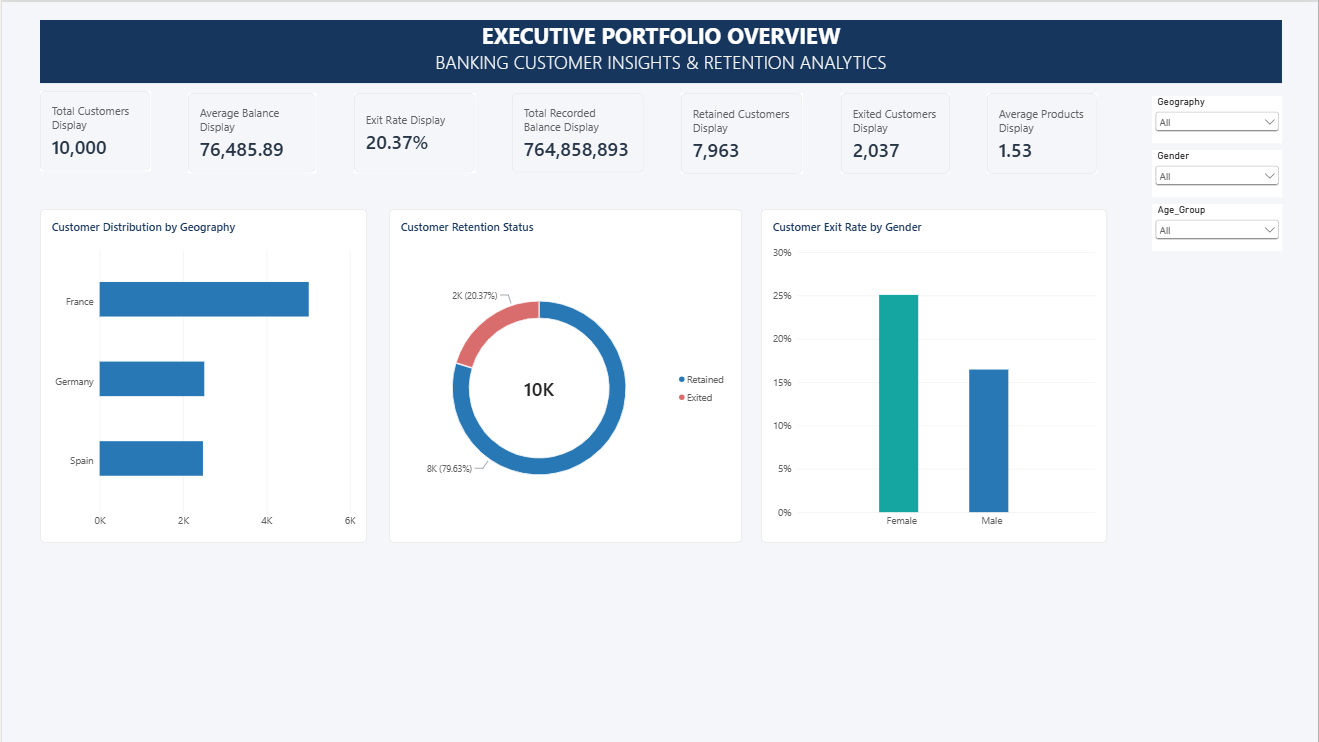

What the dashboard file says about the page in this screenshot:
{"tool":"powerbi","page":{"name":"Executive Portfolio Overview","canvas":[1920,1080],"ordinal":0},"visuals":[{"type":"cardVisual","title":"Total Customers","fields":{"Data":["CustomerData.Total Customers Display"]},"box":[55.4,129.8,161.9,116.7],"z":0},{"type":"cardVisual","title":"Average Balance","fields":{"Data":["CustomerData.Average Balance Display"]},"box":[271.9,132.8,186.7,116.7],"z":1000},{"type":"cardVisual","title":"T","fields":{"Data":["CustomerData.Total Recorded Balance Display"]},"box":[744.1,132.8,192.6,116.7],"z":2000},{"type":"cardVisual","fields":{"Data":["CustomerData.Retained Customers Display"]},"box":[991.1,132.8,178,118.2],"z":3000},{"type":"cardVisual","fields":{"Data":["CustomerData.Exited Customers Display"]},"box":[1223.6,132.8,159,118.2],"z":4000},{"type":"cardVisual","fields":{"Data":["CustomerData.Average Products Display"]},"box":[1437.1,132.8,160.5,118.2],"z":5000},{"type":"cardVisual","title":"Exit Rate","fields":{"Data":["CustomerData.Exit Rate Display"]},"box":[513.1,132.8,176.5,116.7],"z":6000},{"type":"clusteredBarChart","title":"Customer Distribution by Geography","fields":{"Category":["CustomerData.Geography"],"Y":["CustomerData.Total Customers"]},"box":[55.4,302,477.1,487.3],"z":7000},{"type":"clusteredColumnChart","title":"Customer Exit Rate by Gender","fields":{"Category":["CustomerData.Gender"],"Y":["CustomerData.Exit Rate %"]},"box":[1107.4,302,504.8,487.3],"z":8000},{"type":"donutChart","title":"Customer Retention Status","fields":{"Category":["CustomerData.Customer_Status"],"Y":["CustomerData.Total Customers"]},"box":[564.6,302,515,487.3],"z":9000},{"type":"slicer","fields":{"Values":["CustomerData.Geography"]},"box":[1677.8,137.1,189.7,68.6],"z":10000},{"type":"slicer","fields":{"Values":["CustomerData.Gender"]},"box":[1677.8,215.9,189.7,68.6],"z":11000},{"type":"slicer","fields":{"Values":["CustomerData.Age_Group"]},"box":[1677.8,294.7,189.7,68.6],"z":12000},{"type":"textbox","box":[55.4,26.3,1812,91.9],"z":13000}]}

Visuals, with their boxes in screenshot pixels (x1, y1, x2, y2), scaled from the page's 1920x1080 canvas onto the 1319x742 screenshot:
"Total Customers" cardVisual: rect(38, 89, 149, 169)
"Average Balance" cardVisual: rect(187, 91, 315, 171)
"T" cardVisual: rect(511, 91, 643, 171)
cardVisual - CustomerData.Retained Customers Display: rect(681, 91, 803, 172)
cardVisual - CustomerData.Exited Customers Display: rect(841, 91, 950, 172)
cardVisual - CustomerData.Average Products Display: rect(987, 91, 1098, 172)
"Exit Rate" cardVisual: rect(352, 91, 474, 171)
"Customer Distribution by Geography" clusteredBarChart: rect(38, 207, 366, 542)
"Customer Exit Rate by Gender" clusteredColumnChart: rect(761, 207, 1108, 542)
"Customer Retention Status" donutChart: rect(388, 207, 742, 542)
slicer - CustomerData.Geography: rect(1153, 94, 1283, 141)
slicer - CustomerData.Gender: rect(1153, 148, 1283, 195)
slicer - CustomerData.Age_Group: rect(1153, 202, 1283, 250)
textbox: rect(38, 18, 1283, 81)
